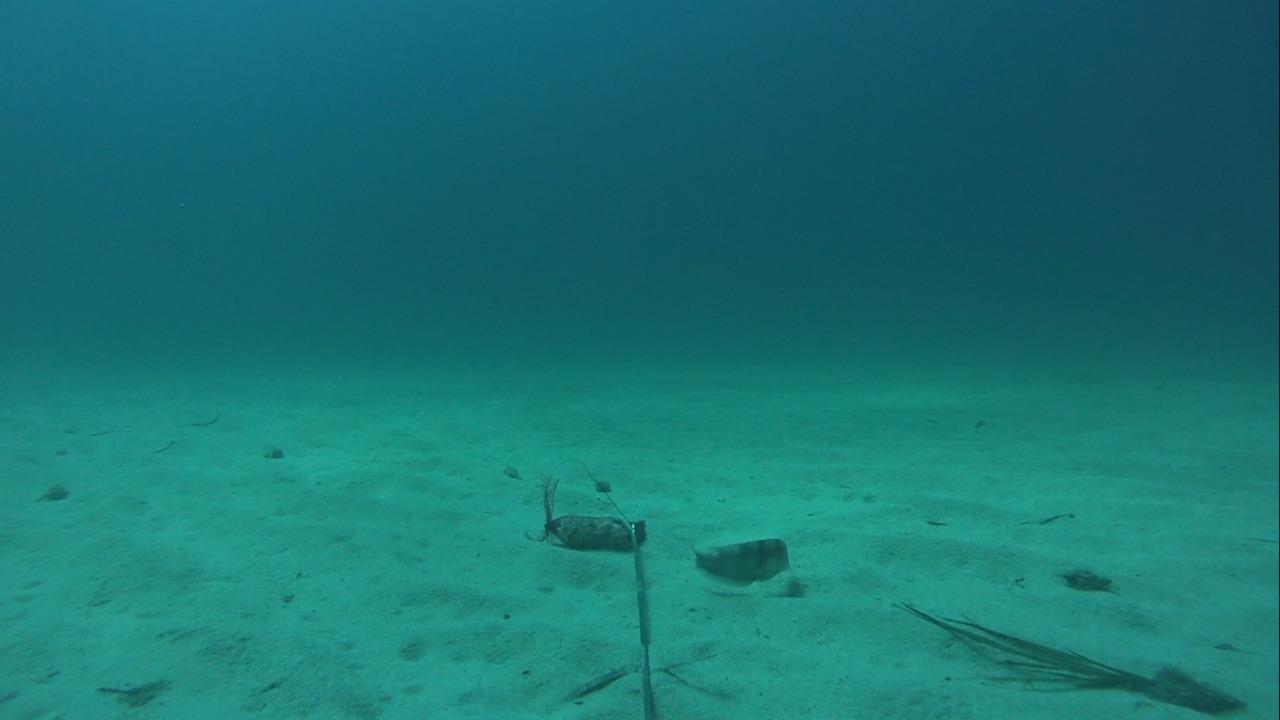raor: (690, 533, 793, 588)
